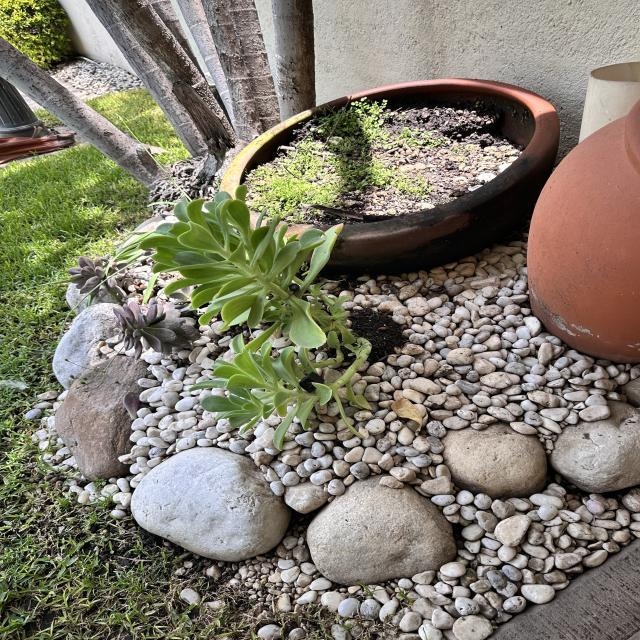hidden camera: (288, 282, 301, 292)
